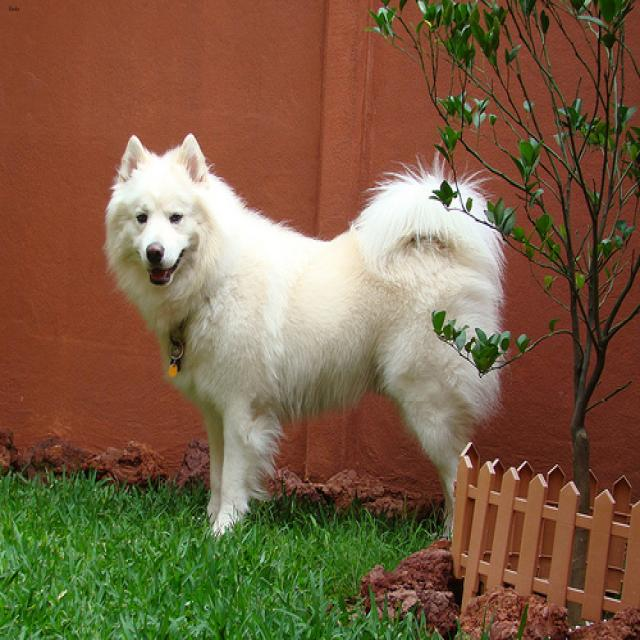dog-samoyed: (92, 122, 515, 547)
